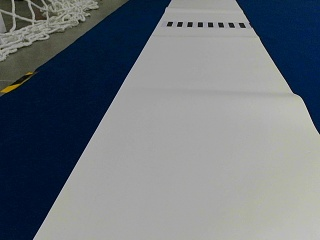crosswalk: (167, 20, 244, 28)
